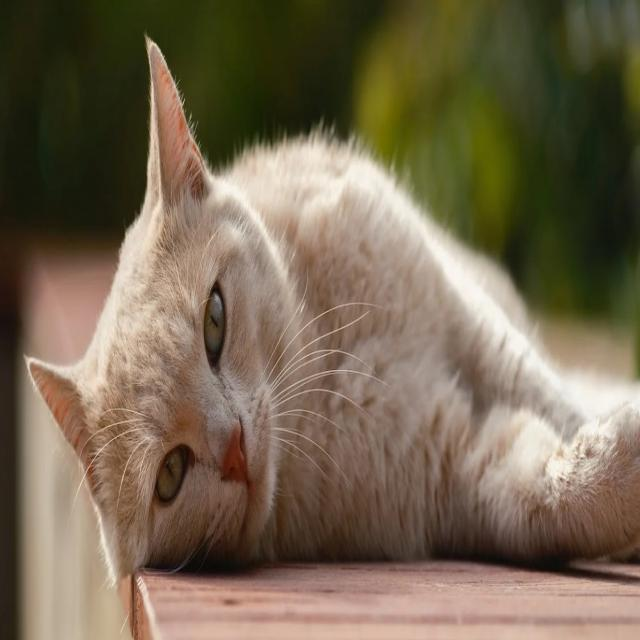cat: (13, 28, 640, 586)
